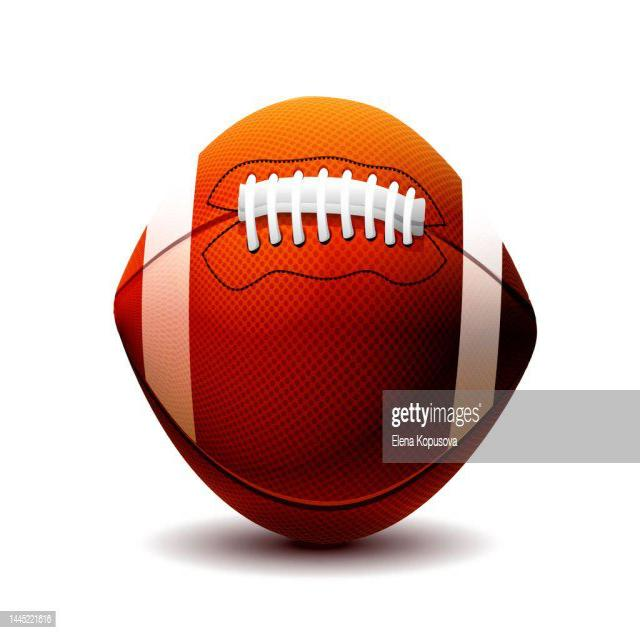ball: (107, 90, 545, 551)
